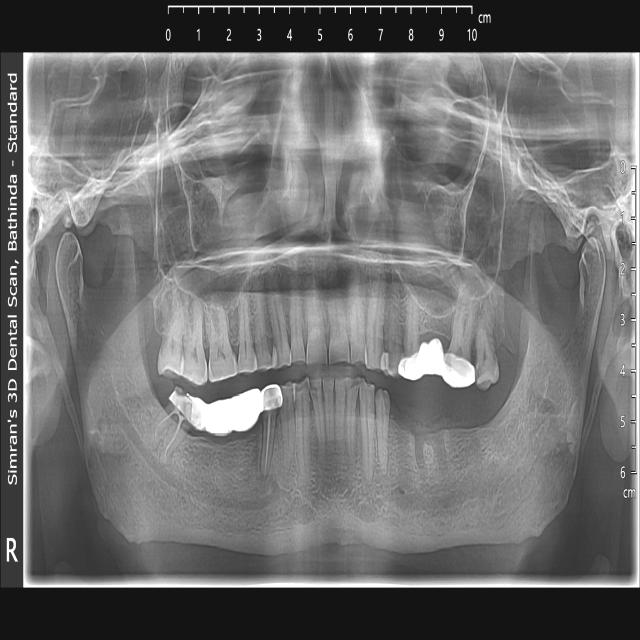Caries: (477, 354, 499, 387)
Crown: (187, 385, 283, 444), (397, 337, 479, 390)
Missing teeth: (395, 403, 488, 464), (193, 438, 254, 479), (424, 304, 447, 337)
Root Canal Treatment: (149, 393, 192, 471), (261, 388, 280, 481)
